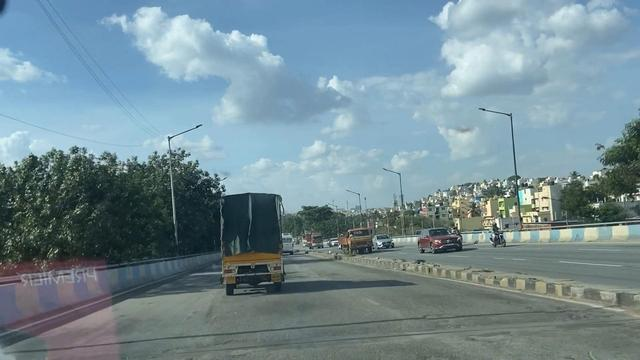HMV: (199, 191, 290, 292)
RoadDamages: (373, 307, 535, 360), (176, 321, 285, 360)
